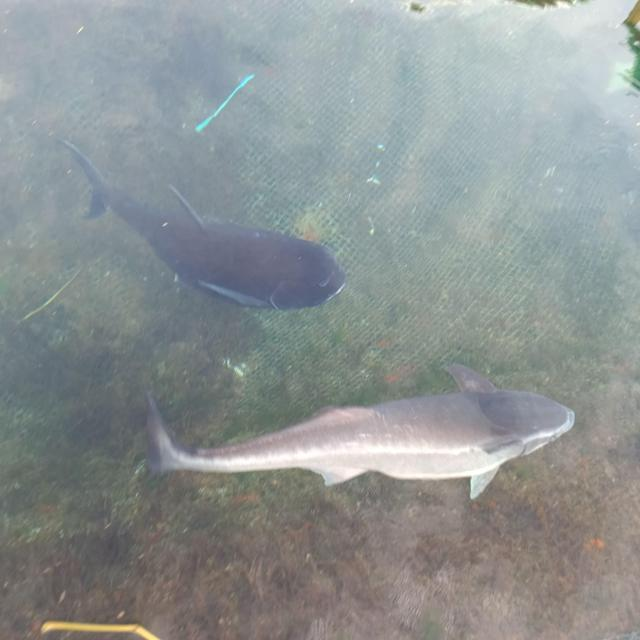ikan: (144, 362, 575, 501), (55, 135, 347, 312)
